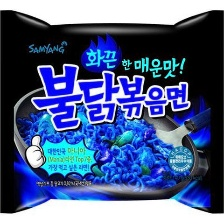snack: (0, 4, 224, 218)
